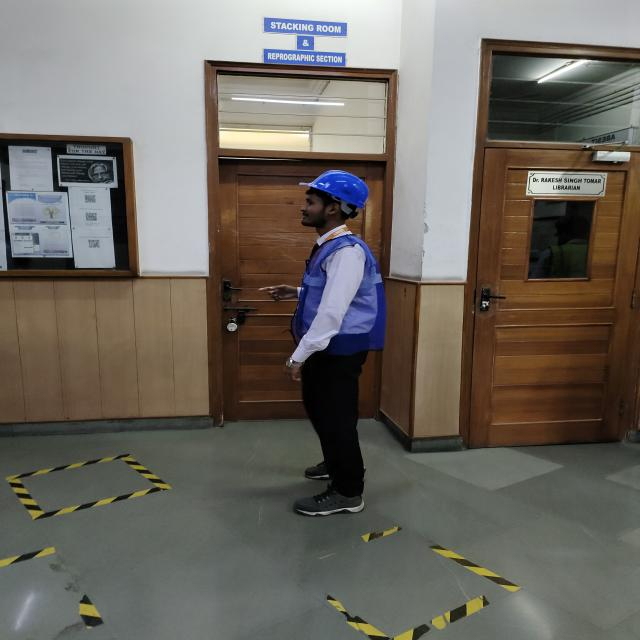safe: (292, 170, 388, 517)
